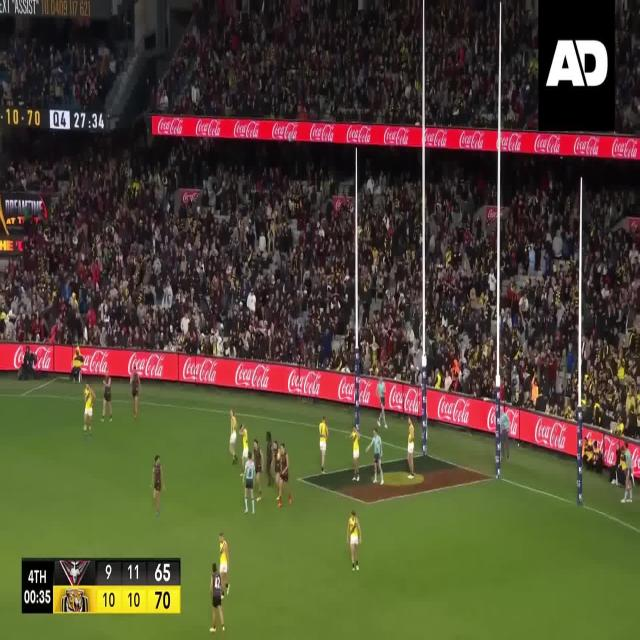crowd: (0, 154, 639, 437), (157, 3, 539, 126), (1, 36, 124, 106), (619, 6, 639, 132)
